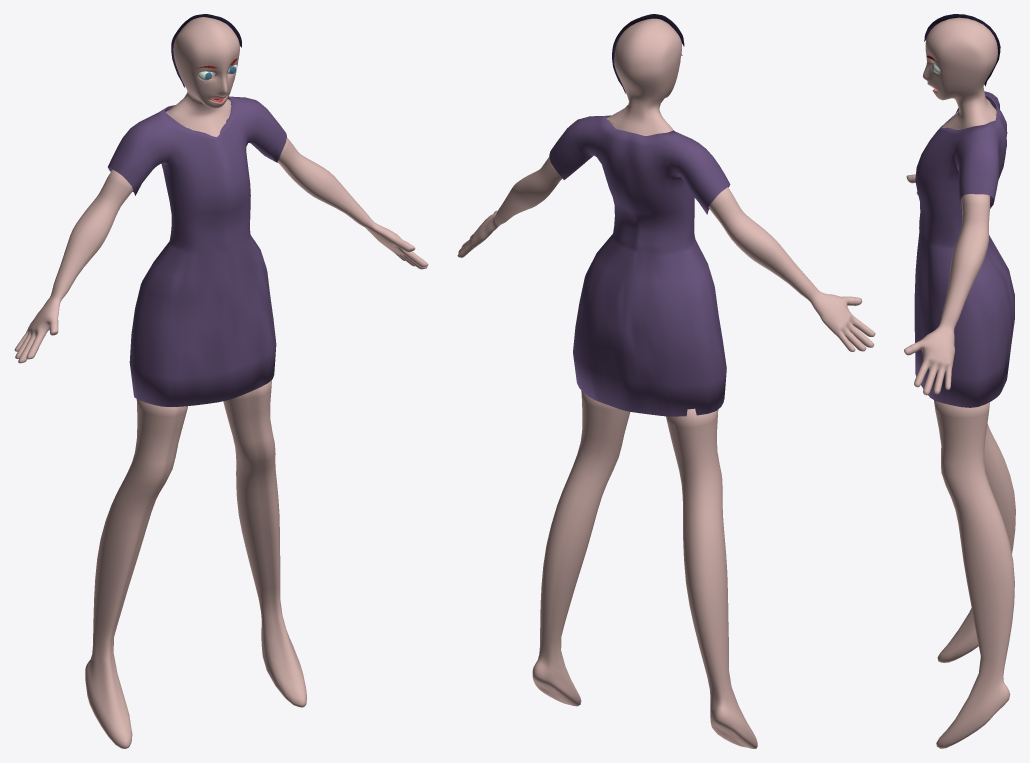
File: woman.glb
3 views of the same model, side by side, from view 1: azimuth 30°, elevation 25°; view 2: azimuth 150°, elevation 25°; view 3: azimuth 270°, elevation 25° (orthographic). The views are drawn at different scales.
Parts seen in each view (by area): view 1: woman; view 2: woman; view 3: woman, hat.
Part boxes in pixels (bbox=[...]): woman: bbox=[14, 17, 428, 748]; woman: bbox=[457, 18, 875, 748]; woman: bbox=[904, 17, 1015, 748]; hat: bbox=[924, 14, 1000, 86].
Size of the model in its own units: 0.1105 by 0.1824 by 0.0268.
